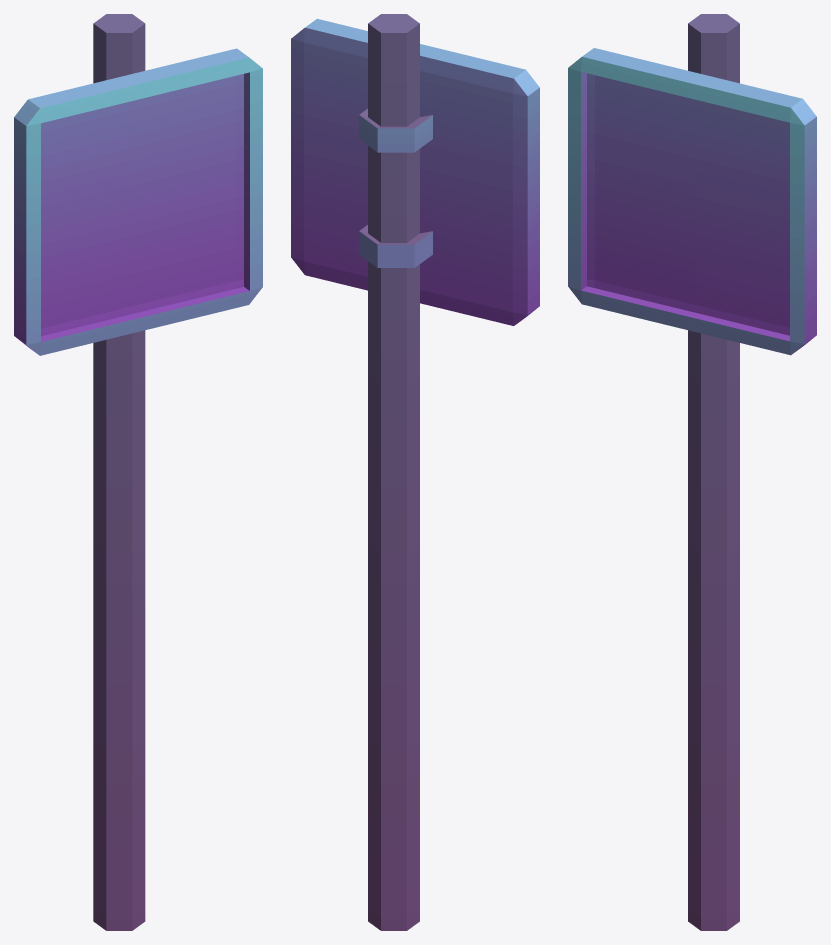
Rendered from sign002.obj.
3 views of the same model, side by side, from view 1: azimuth 30°, elevation 25°; view 2: azimuth 150°, elevation 25°; view 3: azimuth 330°, elevation 25° (orthographic).
Visible parts, largest first — view 1: sign.002; view 2: sign.002; view 3: sign.002.
Part boxes in pixels (bbox=[...]): sign.002: bbox=[14, 14, 262, 930]; sign.002: bbox=[291, 14, 539, 930]; sign.002: bbox=[568, 14, 816, 930].
Bounding box in the file's own units: 3.27 × 11.87 × 1.04.
1 material, 1 textured.
